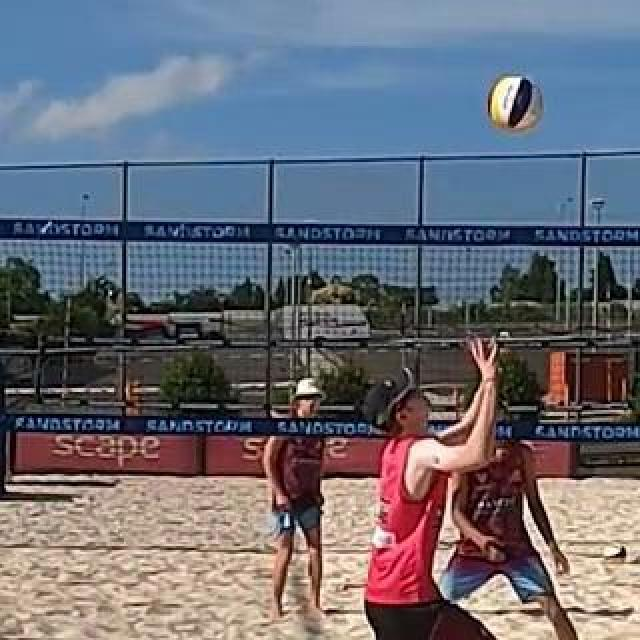volleyball: (489, 76, 543, 130), (602, 541, 628, 569)
